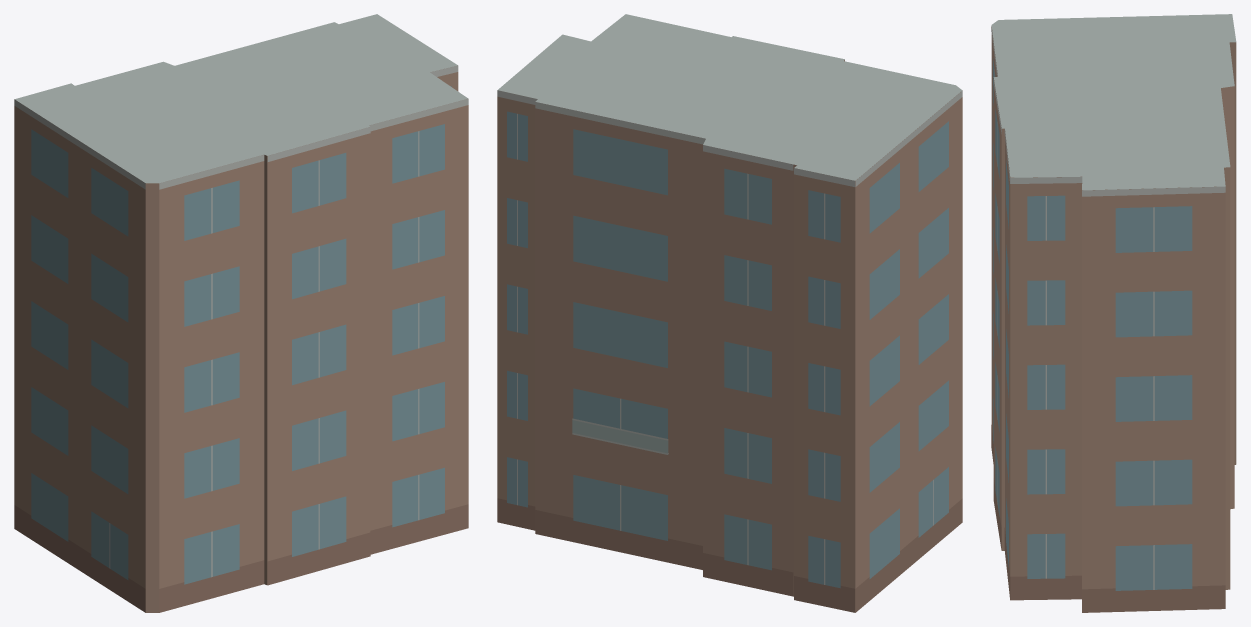
File: survey-upis-32821158.glb
3 renders of one model, left to right at view 1: azimuth 30°, elevation 25°; view 2: azimuth 150°, elevation 25°; view 3: azimuth 270°, elevation 25°, orthographic. The views are drawn at different scales.
Parts seen in each view (by area): view 1: survey-upis-32821158.tmp; view 2: survey-upis-32821158.tmp; view 3: survey-upis-32821158.tmp.
Boxes of the visible parts, <box> form: survey-upis-32821158.tmp: <box>14,14,468,612</box>; survey-upis-32821158.tmp: <box>497,14,962,612</box>; survey-upis-32821158.tmp: <box>991,14,1236,612</box>.
Bounding box in the file's own units: 14.63 × 16.33 × 8.59.
